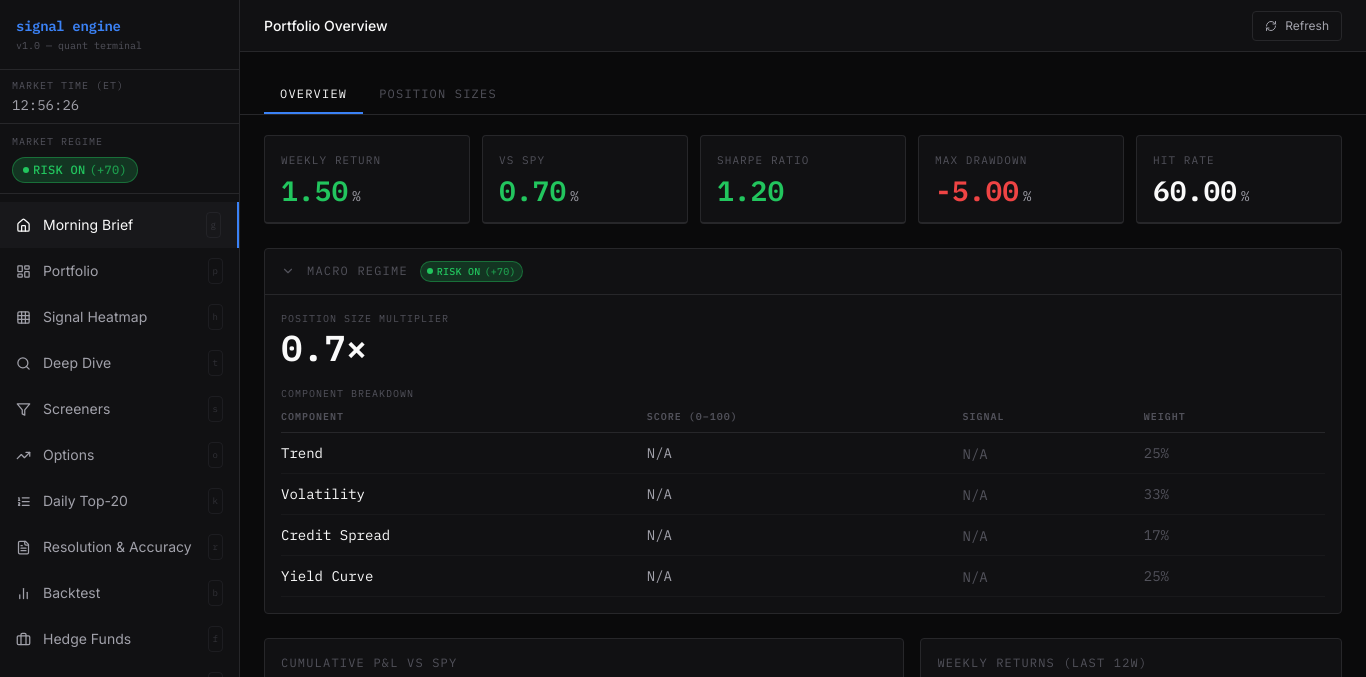
Test: PortfolioPage — Position Sizes section › b) Status badge shows NOT HELD when ticker is absent from positions API
The image size is (1366, 677).
Click the tab "Position Sizes": {"x": 438, "y": 95} [363,76,513,114]
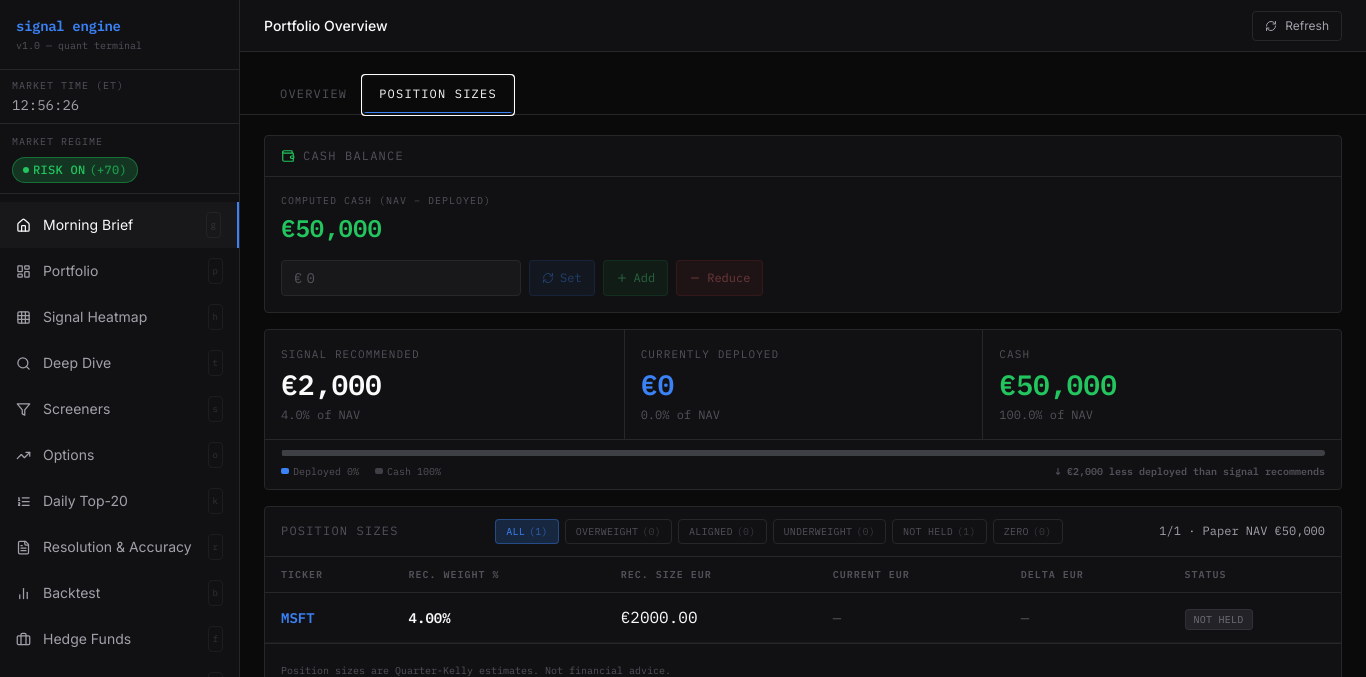
Expected: the text "NOT HELD" is shown, [1184,608,1252,630]
